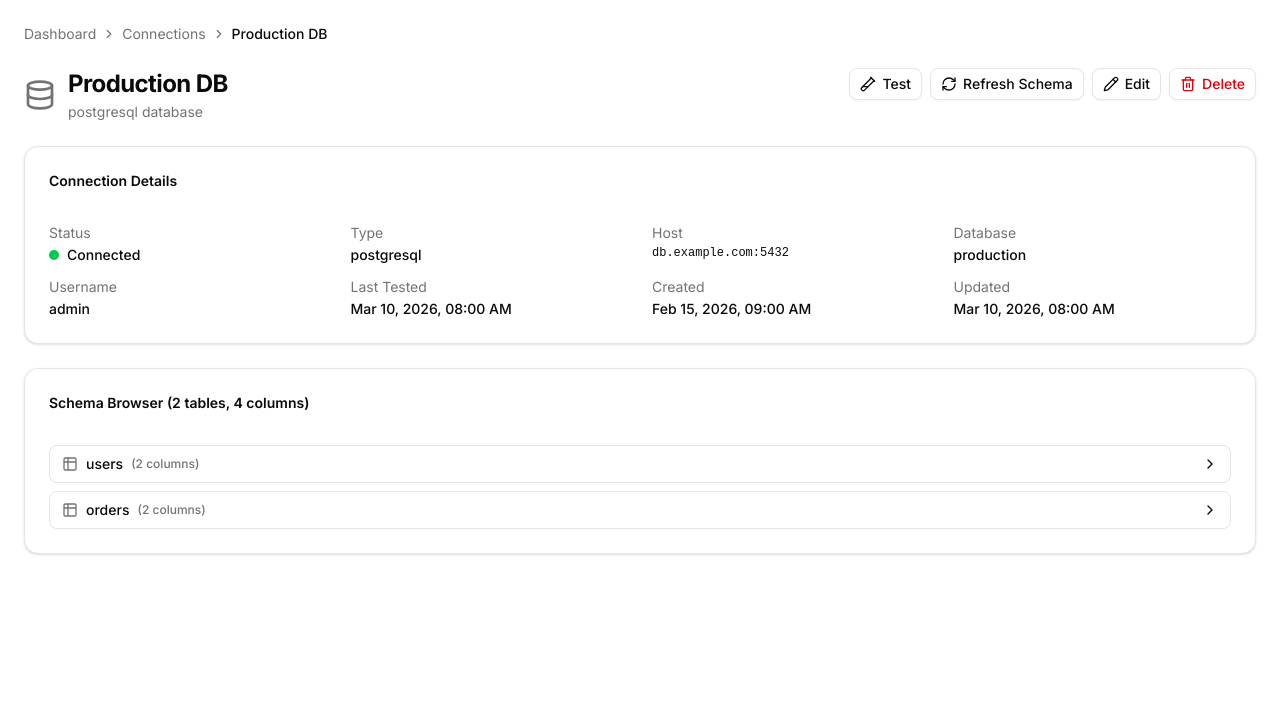
Scenario: ConnectionDetailPage › schema browser › shows foreign key references
The width and height of the screenshot is (1280, 720).
Click the button with test id "table-toggle-orders" at (108, 510), box left=50, top=492, right=1230, bottom=528
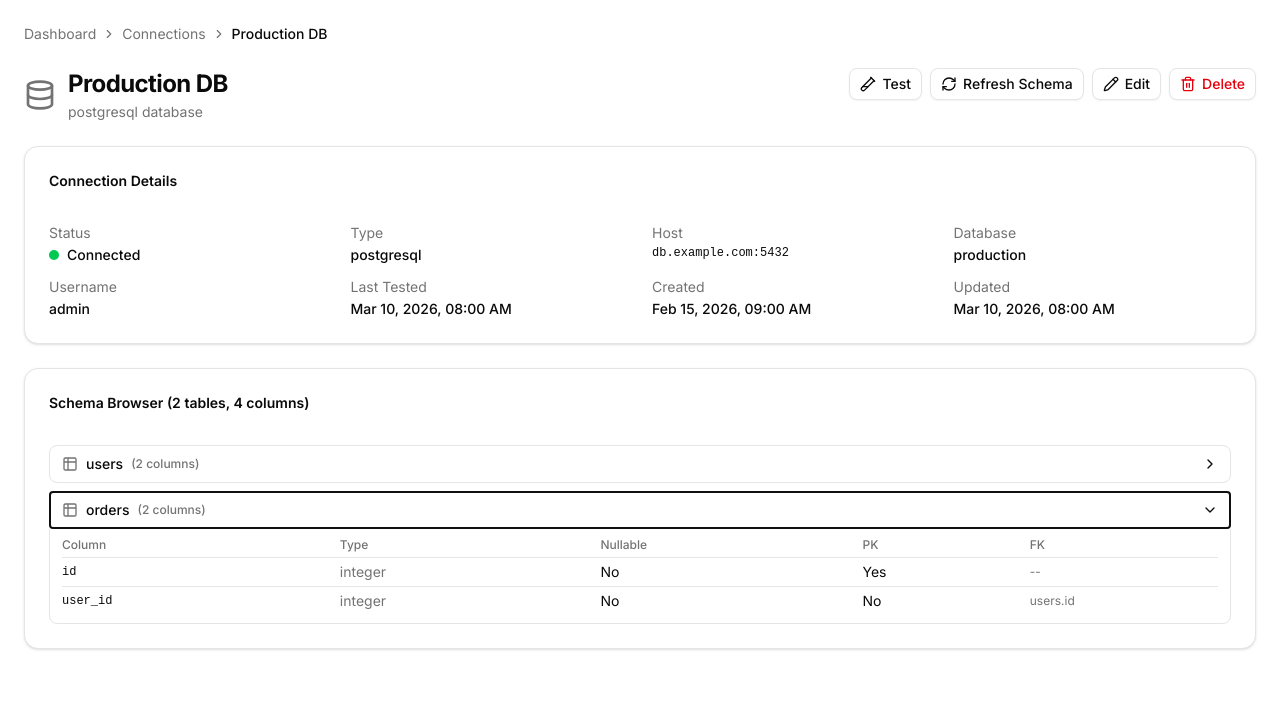
Expected: the text "users.id" is shown, left=1030, top=586, right=1218, bottom=615
